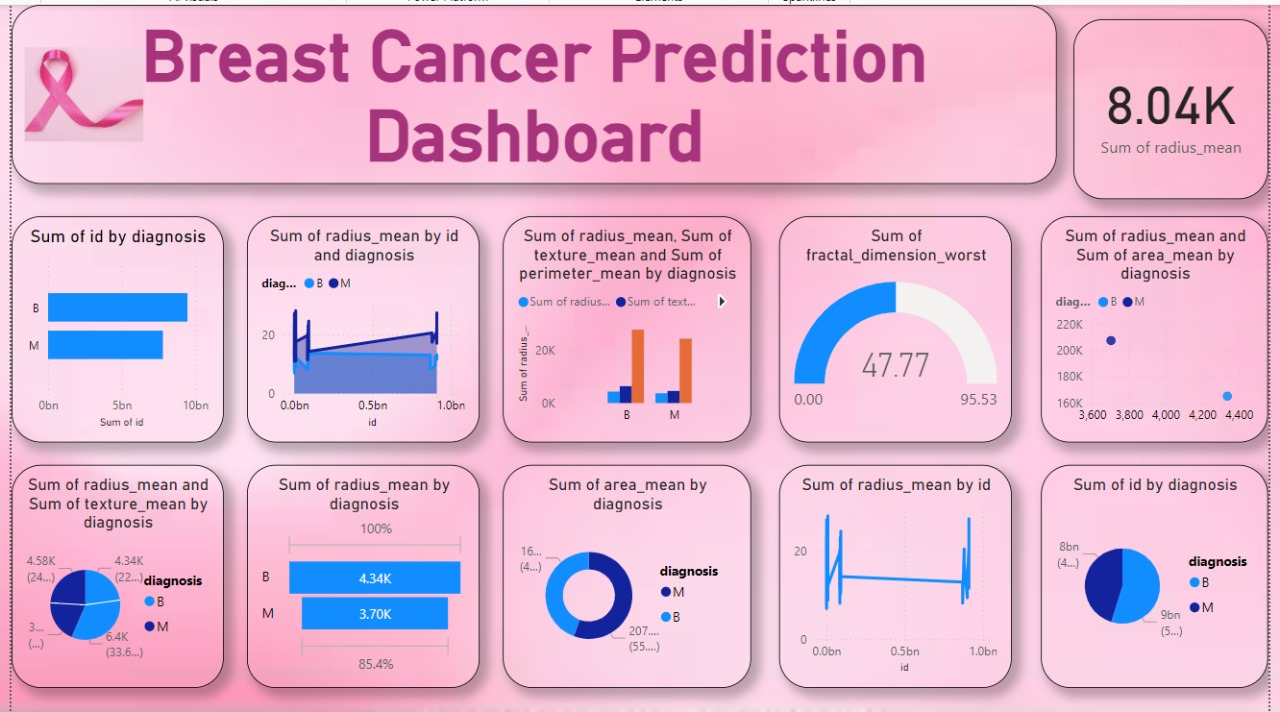

What the dashboard file says about the page in this screenshot:
{"tool":"powerbi","page":{"name":"Page 1","canvas":[1280,720],"ordinal":0},"visuals":[{"type":"clusteredBarChart","fields":{"Y":["Sum(data.id)"],"Category":["data.diagnosis"]},"box":[0,215.7,215.7,230],"z":0},{"type":"pieChart","fields":{"Y":["Sum(data.radius_mean)","Sum(data.texture_mean)"],"Category":["data.diagnosis"]},"box":[0,468.6,215.7,227.1],"z":1000},{"type":"pieChart","fields":{"Category":["data.diagnosis"],"Y":["Sum(data.id)"]},"box":[1048.6,468.6,231.4,227.1],"z":2000},{"type":"funnel","fields":{"Y":["Sum(data.radius_mean)"],"Category":["data.diagnosis"]},"box":[240,468.6,237.1,227.1],"z":3000},{"type":"scatterChart","fields":{"X":["Sum(data.radius_mean)"],"Y":["Sum(data.area_mean)"],"Series":["data.diagnosis"]},"box":[1048.6,215.7,231.4,230],"z":4000},{"type":"lineChart","fields":{"Y":["Sum(data.radius_mean)"],"Category":["data.id"]},"box":[781.4,468.6,237.1,227.1],"z":5000},{"type":"clusteredColumnChart","fields":{"Category":["data.diagnosis"],"Y":["Sum(data.radius_mean)","Sum(data.texture_mean)","Sum(data.perimeter_mean)"]},"box":[500,215.7,252.9,230],"z":6000},{"type":"card","fields":{"Values":["Sum(data.radius_mean)"]},"box":[1081.4,14.3,198.6,182.9],"z":7000},{"type":"donutChart","fields":{"Y":["Sum(data.area_mean)"],"Category":["data.diagnosis"]},"box":[500,468.6,252.9,227.1],"z":8000},{"type":"gauge","fields":{"Y":["Sum(data.fractal_dimension_worst)"]},"box":[781.4,215.7,237.1,230],"z":9000},{"type":"stackedAreaChart","fields":{"Y":["Sum(data.radius_mean)"],"Category":["data.id"],"Series":["data.diagnosis"]},"box":[240,215.7,237.1,230],"z":10000},{"type":"textbox","title":"Breast Cancer Prediction Dashboard","box":[0,0,1063.9,182.2],"z":11000},{"type":"image","box":[8.6,0,130.8,182.2],"z":11001}]}

Visuals, with their boxes in screenshot pixels (x1, y1, x2, y2):
clusteredBarChart - Sum(data.id) x data.diagnosis: l=10, t=214, r=221, b=439
pieChart - Sum(data.radius_mean) x Sum(data.texture_mean): l=10, t=461, r=221, b=683
pieChart - data.diagnosis x Sum(data.id): l=1035, t=461, r=1261, b=683
funnel - Sum(data.radius_mean) x data.diagnosis: l=244, t=461, r=476, b=683
scatterChart - Sum(data.radius_mean) x Sum(data.area_mean): l=1035, t=214, r=1261, b=439
lineChart - Sum(data.radius_mean) x data.id: l=773, t=461, r=1005, b=683
clusteredColumnChart - data.diagnosis x Sum(data.radius_mean): l=499, t=214, r=746, b=439
card - Sum(data.radius_mean): l=1067, t=17, r=1261, b=196
donutChart - Sum(data.area_mean) x data.diagnosis: l=499, t=461, r=746, b=683
gauge - Sum(data.fractal_dimension_worst): l=773, t=214, r=1005, b=439
stackedAreaChart - Sum(data.radius_mean) x data.id: l=244, t=214, r=476, b=439
"Breast Cancer Prediction Dashboard" textbox: l=10, t=3, r=1049, b=181
image: l=18, t=3, r=146, b=181
